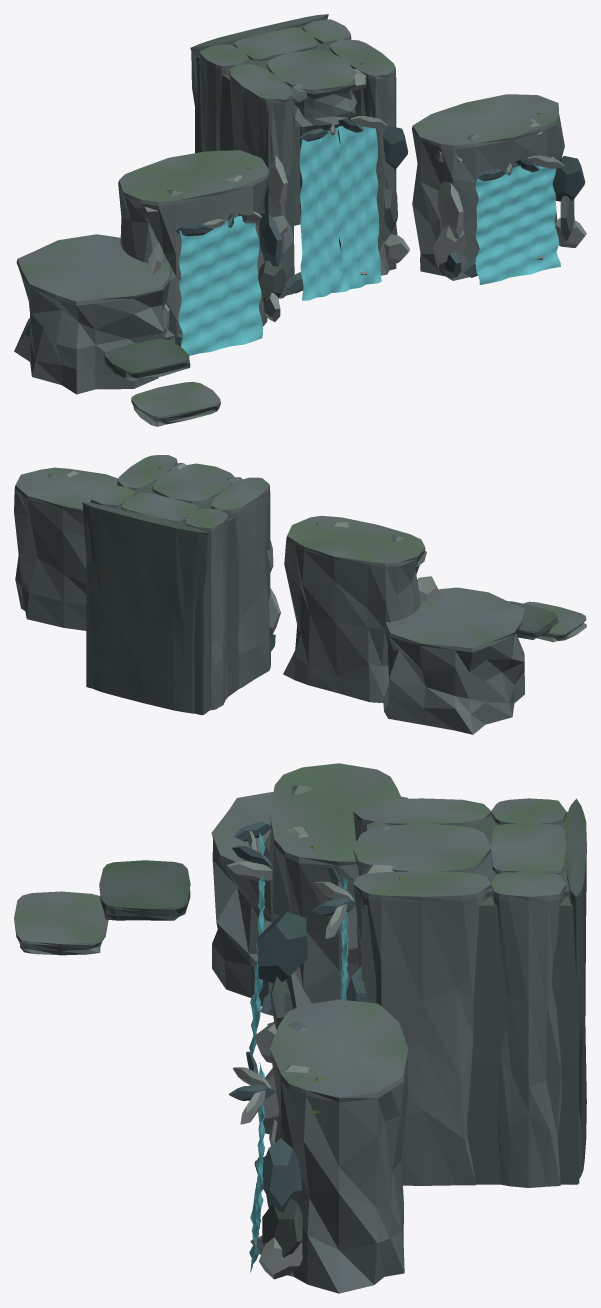
Rendered from falls-geology-medium.glb.
3 views of the same model, one above another, from view 1: azimuth 30°, elevation 25°; view 2: azimuth 150°, elevation 25°; view 3: azimuth 270°, elevation 25° (orthographic). The views are drawn at different scales.
Parts seen in each view (by area): view 1: cliff-mass (×2), water-guide-0 (×2), terrace-study, water-guide--1, water-guide-1, cave-pillar--1, cave-cap, cave-pillar-1, landing-study-low, falls-waterfall-outcrop-5 (×3), cave-rear-wall--1, landing-study-high (+9 smaller); view 2: cliff-mass (×2), cave-back, terrace-study, cave-pillar--1, cave-rear-wall--1, falls-cave-inner-lining-1, cave-cap, falls-cave-inner-lining-3, cave-rear-roof, cave-pillar-1, landing-study-low, landing-study-high (+3 smaller); view 3: cliff-mass (×2), cave-pillar-1, cave-rear-wall-1, falls-cave-inner-lining-2, terrace-study, cave-cap, landing-study-low, landing-study-high, falls-waterfall-outcrop-5 (×2), cave-back, cave-rear-roof, cave-pillar--1 (+5 smaller).
Boxes of the visible parts, x1=… form: cliff-mass (×2): x1=118, y1=94, x2=564, y2=337; water-guide-0 (×2): x1=178, y1=157, x2=560, y2=355; terrace-study: x1=14, y1=234, x2=175, y2=394; water-guide--1: x1=299, y1=127, x2=342, y2=300; water-guide-1: x1=337, y1=125, x2=381, y2=292; cave-pillar--1: x1=229, y1=64, x2=294, y2=298; cave-cap: x1=267, y1=50, x2=356, y2=126; cave-pillar-1: x1=330, y1=39, x2=397, y2=275; landing-study-low: x1=131, y1=381, x2=220, y2=426; falls-waterfall-outcrop-5 (×3): x1=259, y1=126, x2=585, y2=266; cave-rear-wall--1: x1=199, y1=44, x2=248, y2=152; landing-study-high: x1=104, y1=339, x2=190, y2=381; cliff-mass (×2): x1=14, y1=467, x2=425, y2=702; cave-back: x1=82, y1=502, x2=208, y2=713; terrace-study: x1=383, y1=587, x2=526, y2=734; cave-pillar--1: x1=211, y1=477, x2=270, y2=688; cave-rear-wall--1: x1=185, y1=508, x2=228, y2=710; falls-cave-inner-lining-1: x1=202, y1=491, x2=270, y2=714; cave-cap: x1=152, y1=463, x2=234, y2=503; falls-cave-inner-lining-3: x1=87, y1=516, x2=201, y2=715; cave-rear-roof: x1=121, y1=492, x2=199, y2=522; cave-pillar-1: x1=117, y1=455, x2=177, y2=490; landing-study-low: x1=523, y1=601, x2=586, y2=642; landing-study-high: x1=507, y1=601, x2=558, y2=639; cliff-mass (×2): x1=269, y1=763, x2=408, y2=1293; cave-pillar-1: x1=353, y1=871, x2=491, y2=1185; cave-rear-wall-1: x1=491, y1=871, x2=566, y2=1187; falls-cave-inner-lining-2: x1=364, y1=896, x2=577, y2=1184; terrace-study: x1=211, y1=792, x2=407, y2=1006; cave-cap: x1=353, y1=824, x2=491, y2=900; landing-study-low: x1=14, y1=891, x2=108, y2=955; landing-study-high: x1=99, y1=860, x2=190, y2=920; falls-waterfall-outcrop-5 (×2): x1=257, y1=912, x2=307, y2=1212; cave-back: x1=566, y1=798, x2=586, y2=1184; cave-rear-roof: x1=491, y1=823, x2=566, y2=873; cave-pillar--1: x1=353, y1=798, x2=491, y2=875.
Size of the model in its own units: 16.29 by 6.01 by 10.33.
